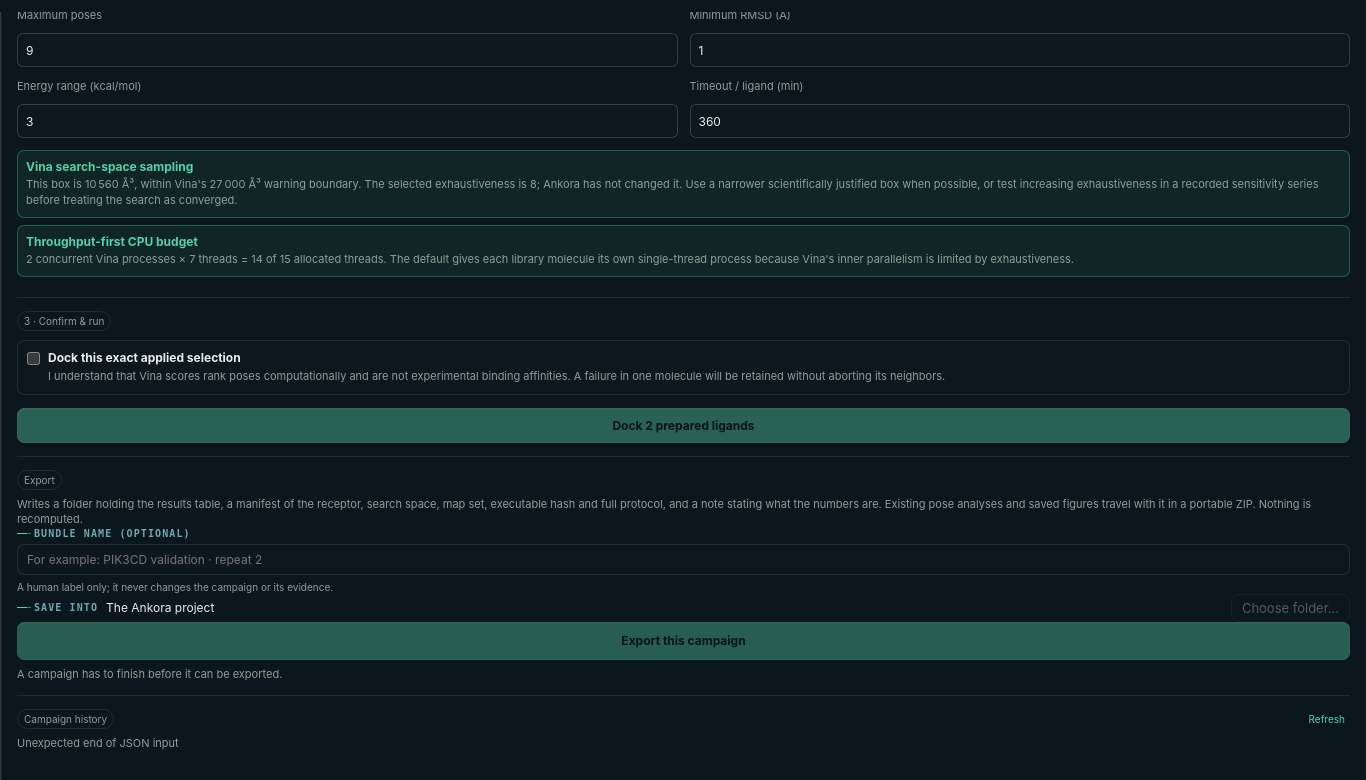
it: prevents a rapid double click from creating duplicate campaigns
(page scrolled)
Click the checkbox at (34, 358), box [27,352,40,365]
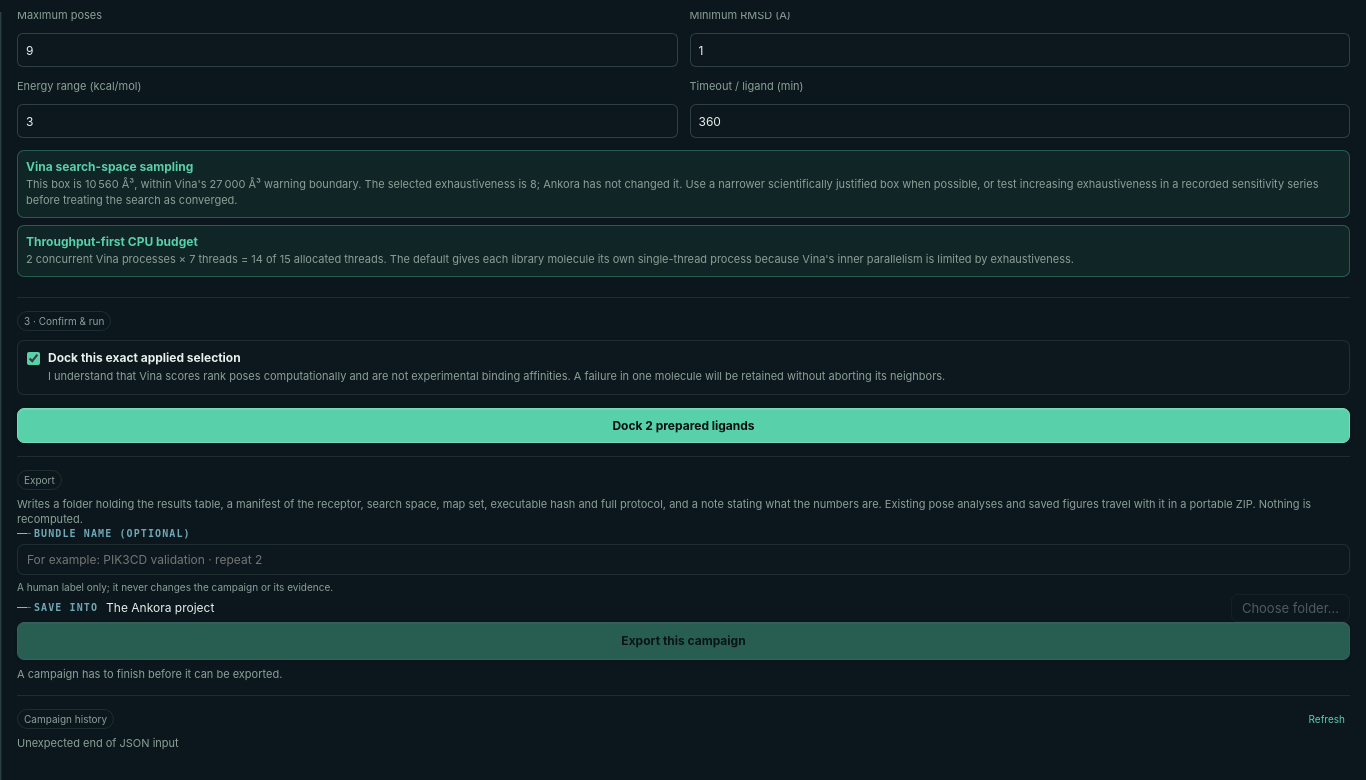
Click the button "Dock 2 prepared ligands" at (684, 426), box [17,408,1350,443]
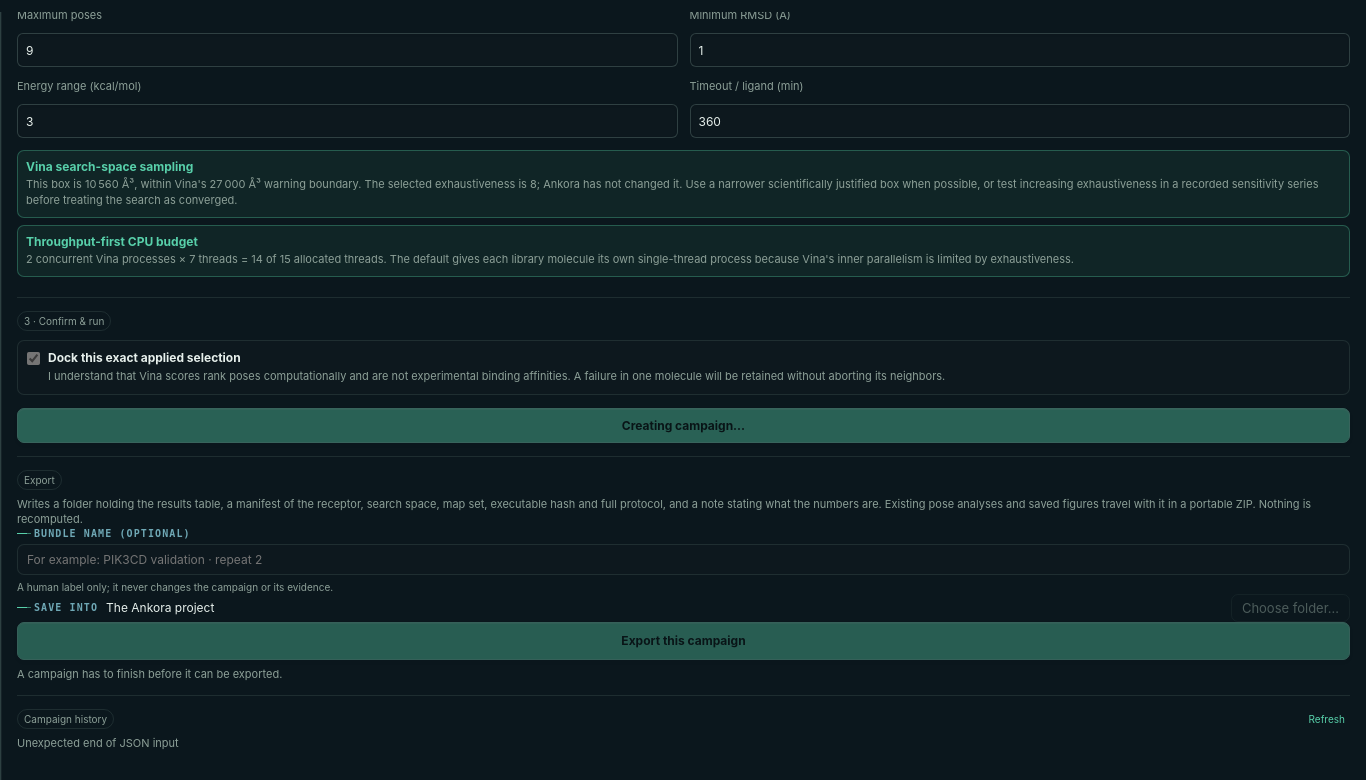
Click the button named "Dock 2 prepared ligands" at (684, 426), box [17,408,1350,443]
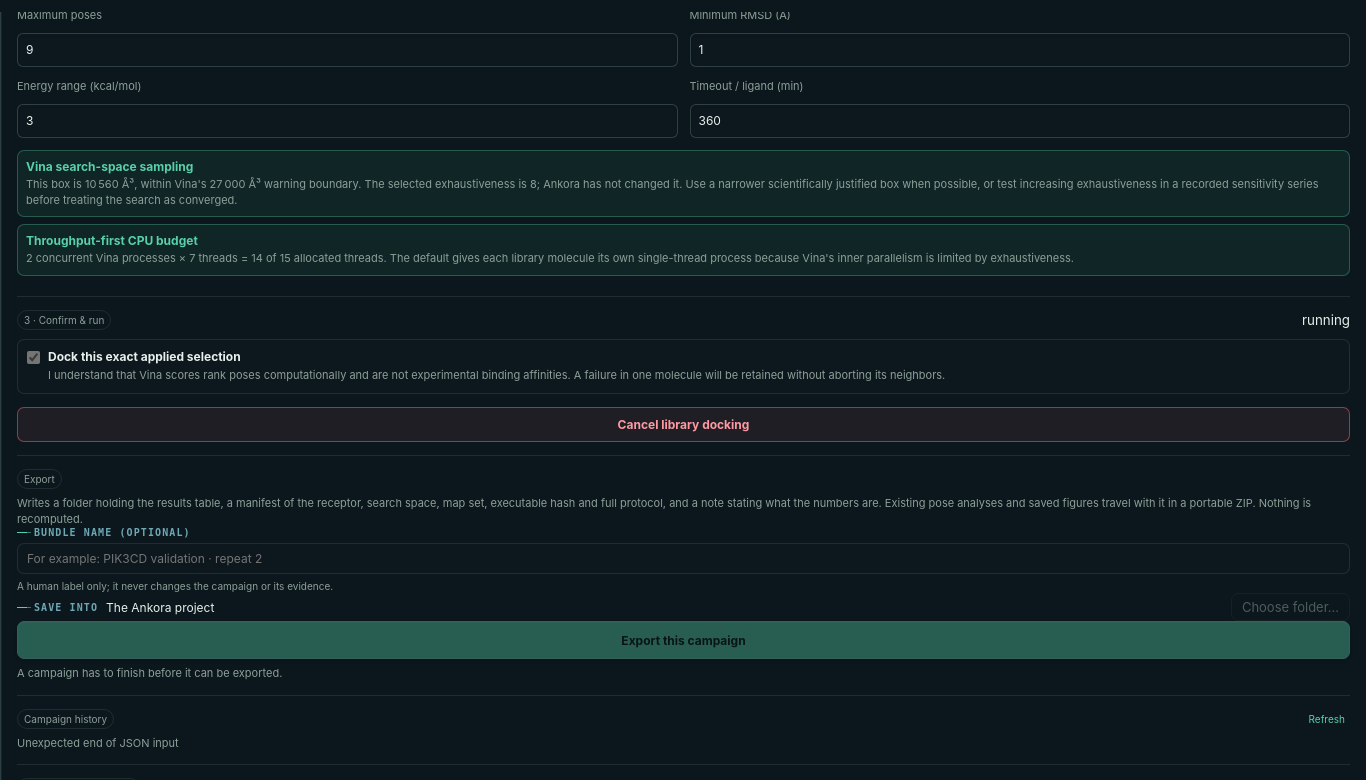
Expected: the button "Cancel library docking" is shown, [17,407,1350,442]
